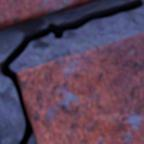brick: (17, 33, 143, 143), (0, 0, 99, 31)
crack: (0, 0, 142, 143)
